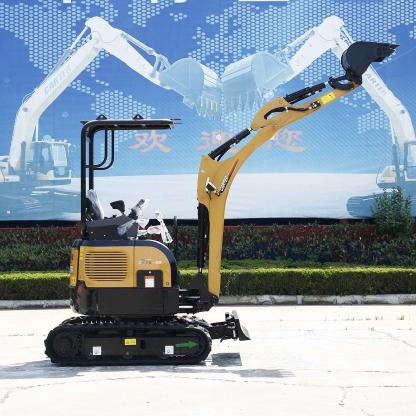excavator: (48, 24, 409, 362)
